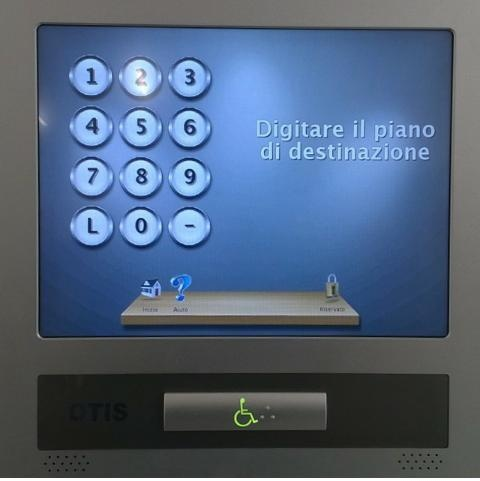-: (168, 205, 211, 249)
0: (119, 205, 163, 249)
1: (69, 52, 114, 98)
2: (119, 55, 163, 99)
3: (167, 55, 213, 101)
4: (70, 105, 114, 148)
5: (119, 106, 163, 149)
6: (167, 106, 211, 150)
7: (69, 155, 114, 199)
8: (118, 156, 163, 199)
9: (168, 156, 212, 200)
CH: (162, 391, 327, 433)
L: (70, 204, 114, 249)
